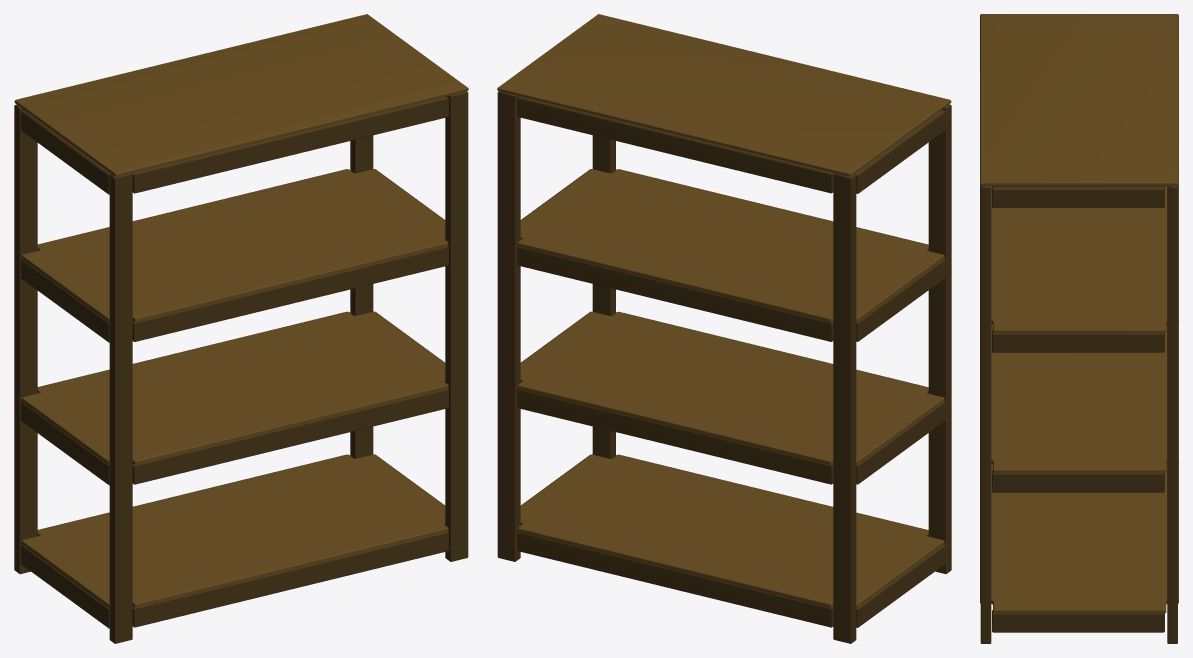
Rendered from SeanElstonShelfFinal.fbx.
3 views of the same model, side by side, from view 1: azimuth 30°, elevation 25°; view 2: azimuth 150°, elevation 25°; view 3: azimuth 270°, elevation 25° (orthographic).
Visible parts, largest first — view 1: Shelf; view 2: Shelf; view 3: Shelf.
Boxes of the visible parts, bbox=[...] form: Shelf: bbox=[14, 14, 468, 643]; Shelf: bbox=[497, 14, 951, 643]; Shelf: bbox=[980, 14, 1178, 643].
Size of the model in its own units: 146 by 185 by 72.
